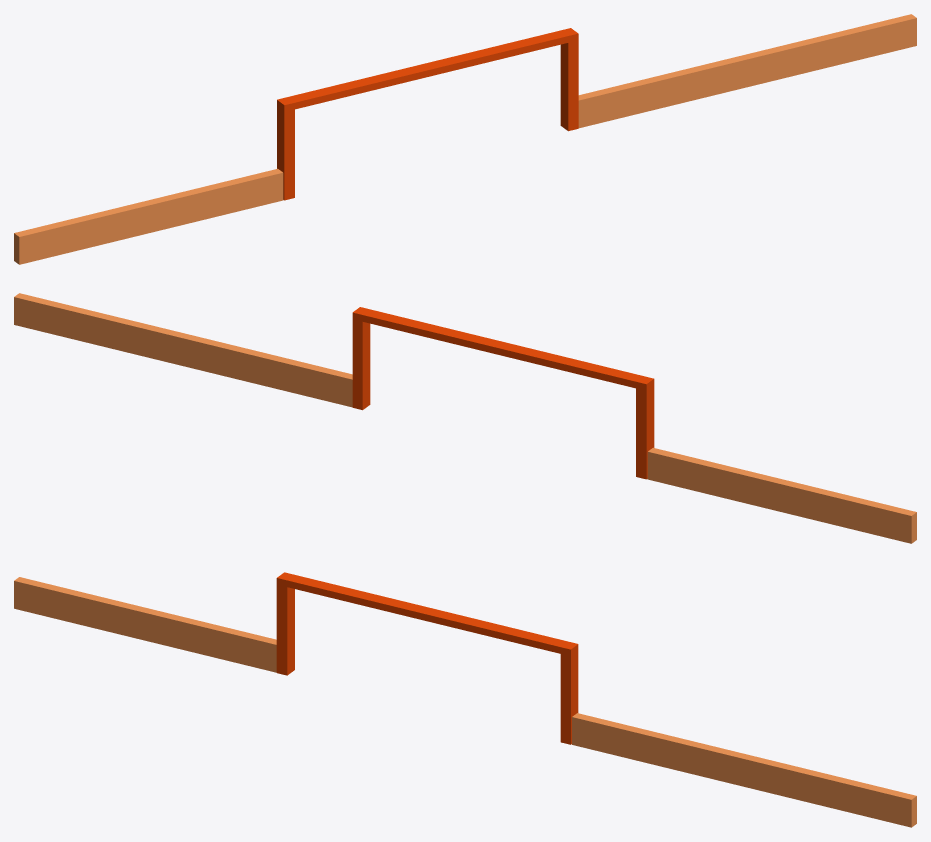
Rendered from door changed.fbx.
3 renders of one model, top to bottom at view 1: azimuth 30°, elevation 25°; view 2: azimuth 150°, elevation 25°; view 3: azimuth 330°, elevation 25°, orthographic.
Visible parts, largest first — view 1: walls.027, walls.028, door.013; view 2: walls.027, walls.028, door.013; view 3: walls.027, walls.028, door.013.
Boxes of the visible parts, bbox=[...] form: walls.027: bbox=[578, 14, 916, 128]; walls.028: bbox=[14, 168, 283, 264]; door.013: bbox=[277, 28, 578, 200]; walls.027: bbox=[14, 293, 352, 407]; walls.028: bbox=[647, 447, 916, 543]; door.013: bbox=[352, 307, 654, 479]; walls.027: bbox=[572, 713, 916, 827]; walls.028: bbox=[14, 577, 276, 672]; door.013: bbox=[276, 572, 578, 744].
Bounding box in the file's own units: 50.02 × 0.7387 × 5.11.
